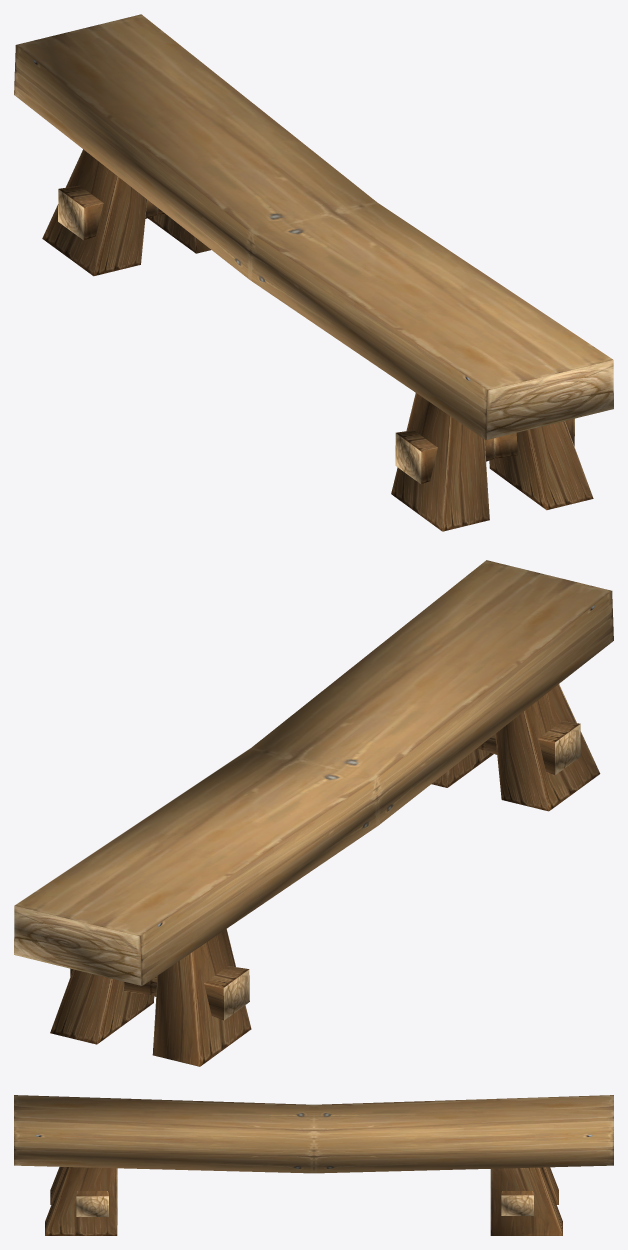
The model's file is innbench.obj.
The picture shows the model from 3 angles, top to bottom: view 1: azimuth 30°, elevation 25°; view 2: azimuth 150°, elevation 25°; view 3: azimuth 270°, elevation 25°; orthographic projection. The views are drawn at different scales.
Parts seen in each view (by area): view 1: innbench; view 2: innbench; view 3: innbench.
Boxes of the visible parts, box(x1,y1,x2,y2) form: innbench: box(14, 14, 613, 531); innbench: box(14, 560, 613, 1066); innbench: box(14, 1095, 613, 1235).
Bounding box in the file's own units: 0.8077 × 0.7759 × 4.2.
1 material, 1 textured.
